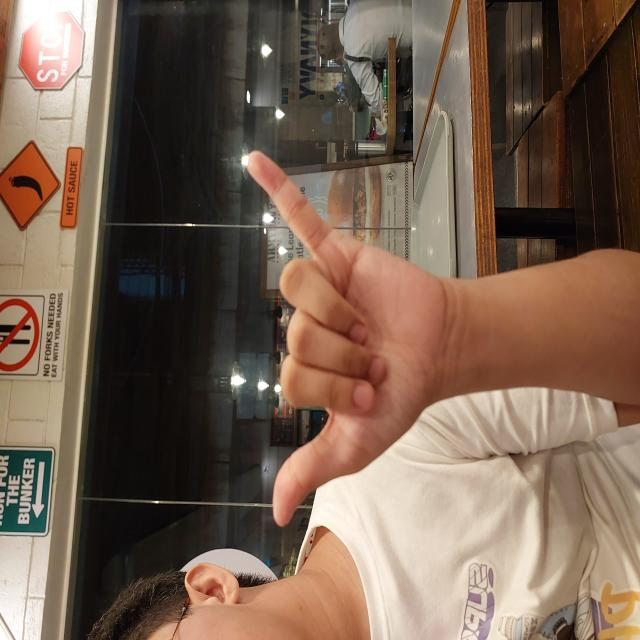Y: (111, 243, 492, 450)
